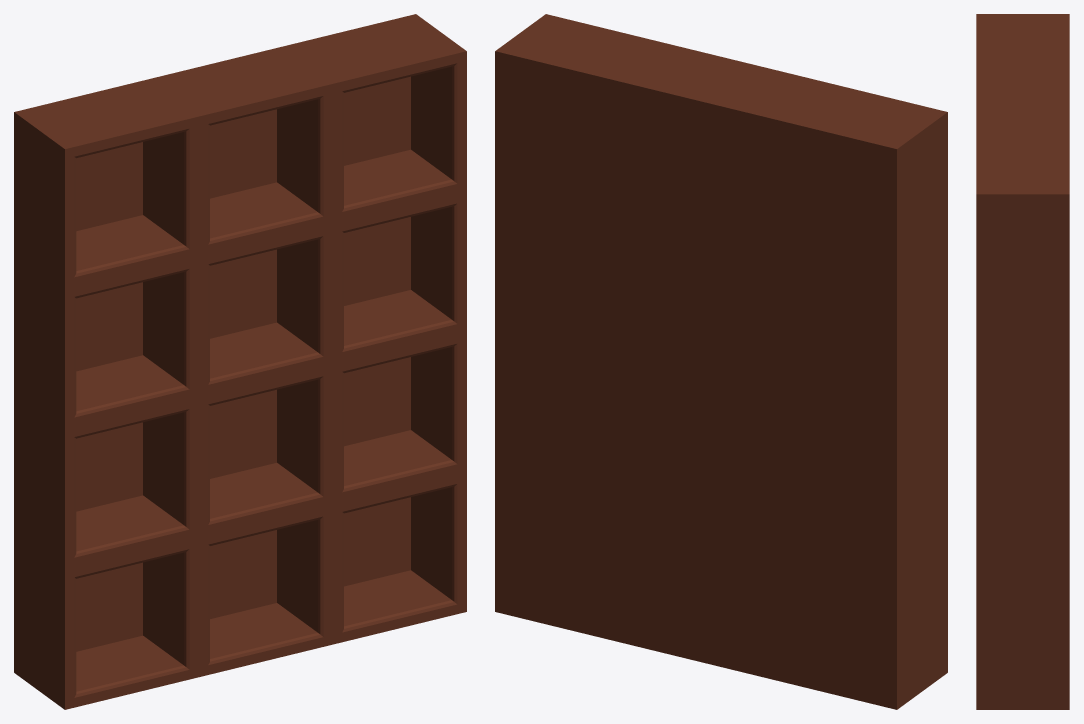
Rendered from UtilityCloset.fbx.
The picture shows the model from 3 angles, left to right: view 1: azimuth 30°, elevation 25°; view 2: azimuth 150°, elevation 25°; view 3: azimuth 270°, elevation 25°; orthographic projection. The views are drawn at different scales.
Parts seen in each view (by area): view 1: Cube.227; view 2: Cube.227; view 3: Cube.227.
Boxes of the visible parts, x1,y1,x2,y2 form: Cube.227: [14, 14, 466, 709]; Cube.227: [495, 14, 947, 709]; Cube.227: [976, 14, 1069, 709].
Size of the model in its own units: 202 by 269 by 44.15.
